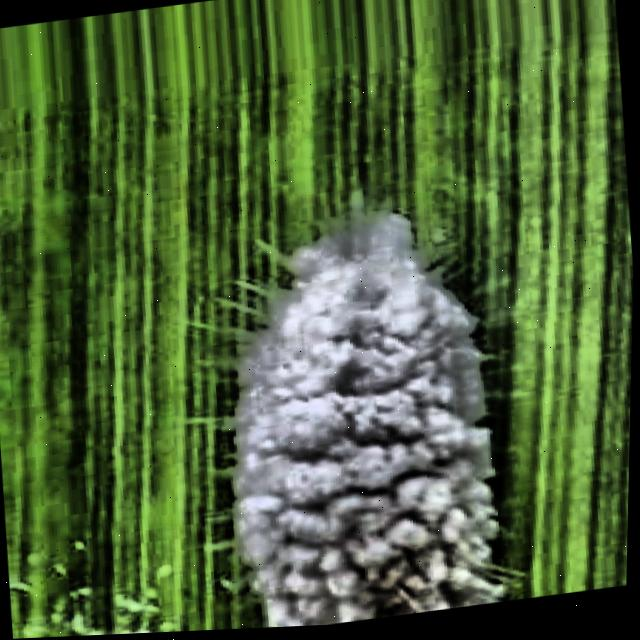Mealy-bug: (153, 183, 549, 634)
